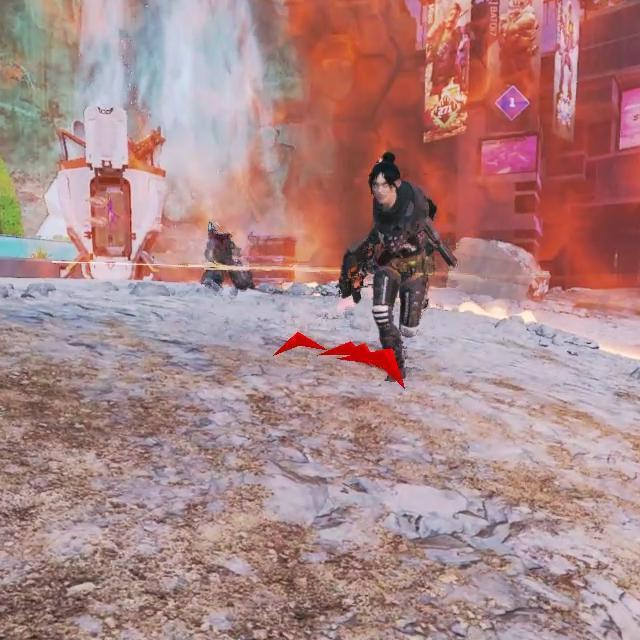avatar: (337, 149, 460, 386)
